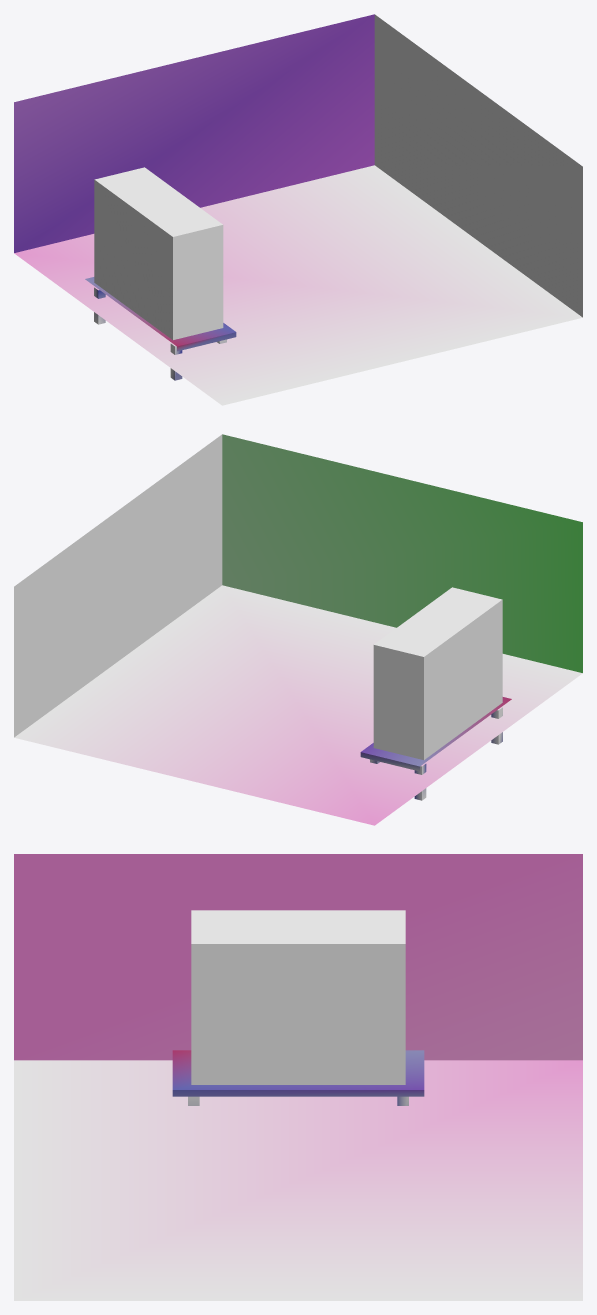
Rendered from room_05.glb.
The picture shows the model from 3 angles, top to bottom: view 1: azimuth 30°, elevation 25°; view 2: azimuth 150°, elevation 25°; view 3: azimuth 270°, elevation 25°; orthographic projection. The views are drawn at different scales.
Parts seen in each view (by area): view 1: room, tank; view 2: room, tank; view 3: room, tank.
Boxes of the visible parts, x1=… form: room: x1=14, y1=14, x2=582, y2=405; tank: x1=94, y1=167, x2=223, y2=339; room: x1=14, y1=434, x2=582, y2=825; tank: x1=373, y1=587, x2=502, y2=759; room: x1=14, y1=854, x2=582, y2=1300; tank: x1=191, y1=910, x2=405, y2=1084.
Size of the model in its own units: 1 by 0.468 by 1.
